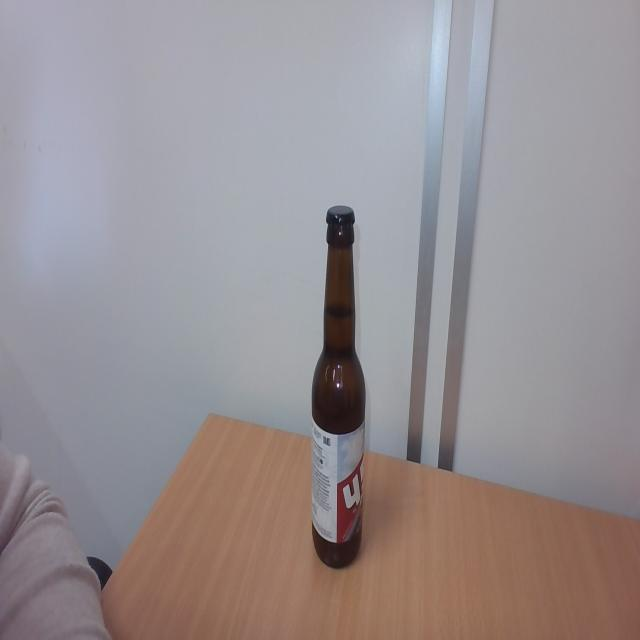Bottle: (311, 232, 364, 572)
Cap: (324, 202, 356, 232)
Label: (312, 424, 364, 536)
